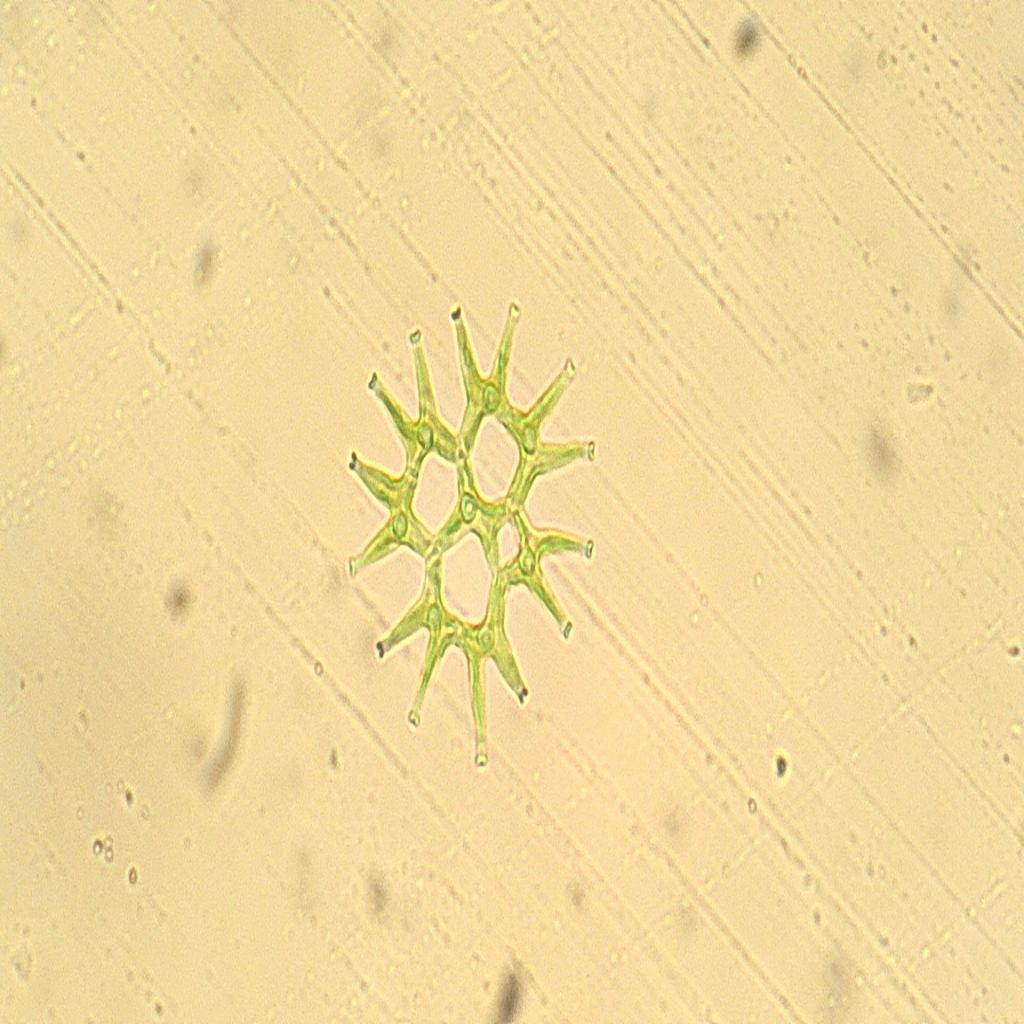Pediastrum_CTH: (327, 258, 623, 784)
